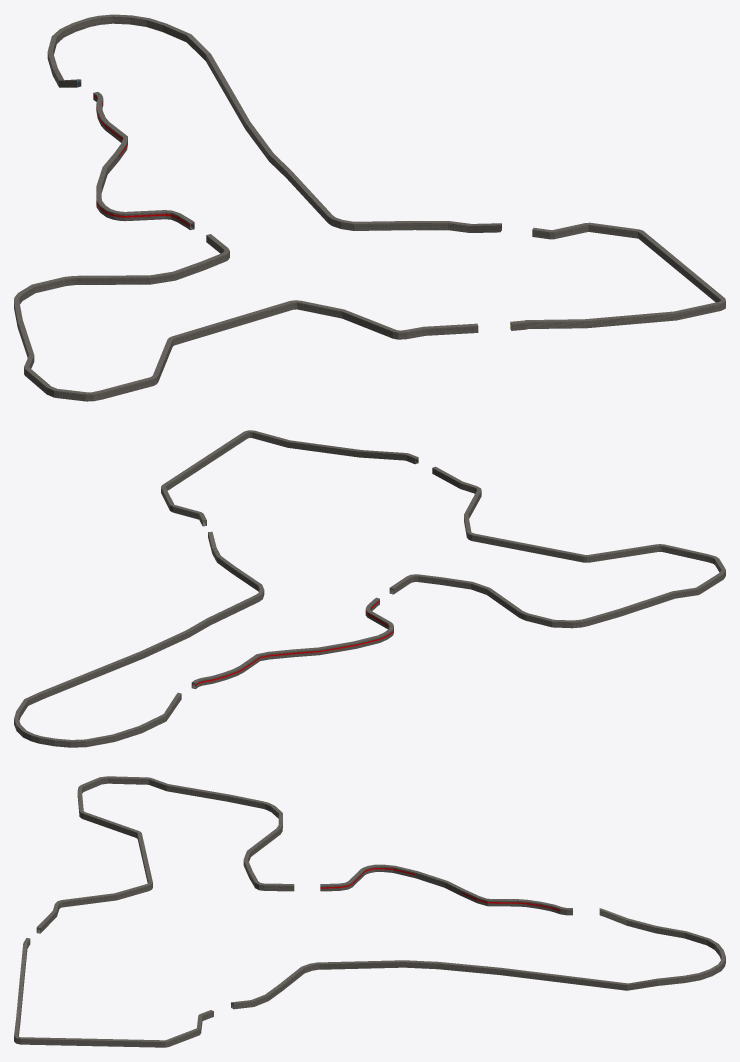
The model's file is Subway System.glb.
The picture shows the model from 3 angles, top to bottom: view 1: azimuth 30°, elevation 25°; view 2: azimuth 150°, elevation 25°; view 3: azimuth 270°, elevation 25°; orthographic projection. The views are drawn at different scales.
Parts seen in each view (by area): view 1: Subwayborders.001, Subwayborders.003, Subwayborders, Subwayborders.002; view 2: Subwayborders.001, Subwayborders.003, Subwayborders, Subwayborders.002; view 3: Subwayborders.003, Subwayborders.001, Subwayborders, Subwayborders.002.
Part boxes in pixels (<box>): Subwayborders.001: <box>14,234,478,401</box>; Subwayborders.003: <box>47,14,501,232</box>; Subwayborders: <box>510,222,725,330</box>; Subwayborders.002: <box>93,92,194,230</box>; Subwayborders.001: <box>389,466,725,628</box>; Subwayborders.003: <box>14,531,264,747</box>; Subwayborders: <box>161,430,418,526</box>; Subwayborders.002: <box>191,597,393,688</box>; Subwayborders.003: <box>231,908,725,1009</box>; Subwayborders.001: <box>36,776,294,933</box>; Subwayborders: <box>14,938,213,1047</box>; Subwayborders.002: <box>320,864,572,915</box>.
Bounding box in the file's own units: 701 × 38.32 × 855.
Materials: 10 (1 with a texture image).
